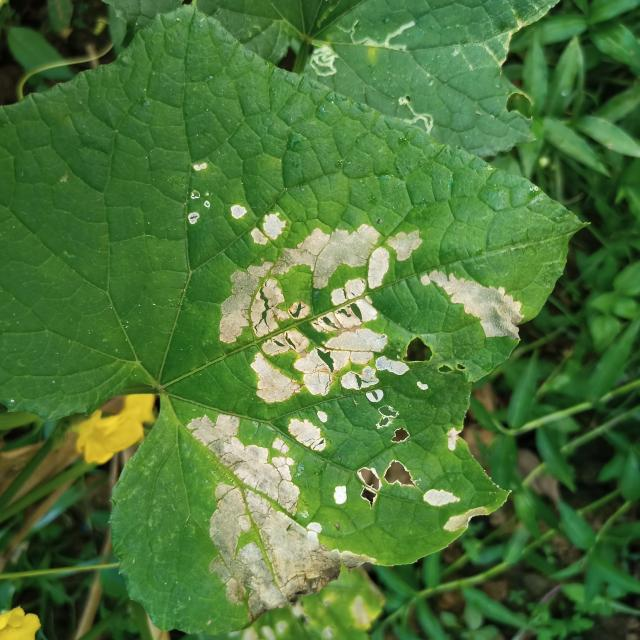disease_cucumber: (212, 195, 542, 408), (180, 407, 494, 620), (175, 153, 216, 233)
